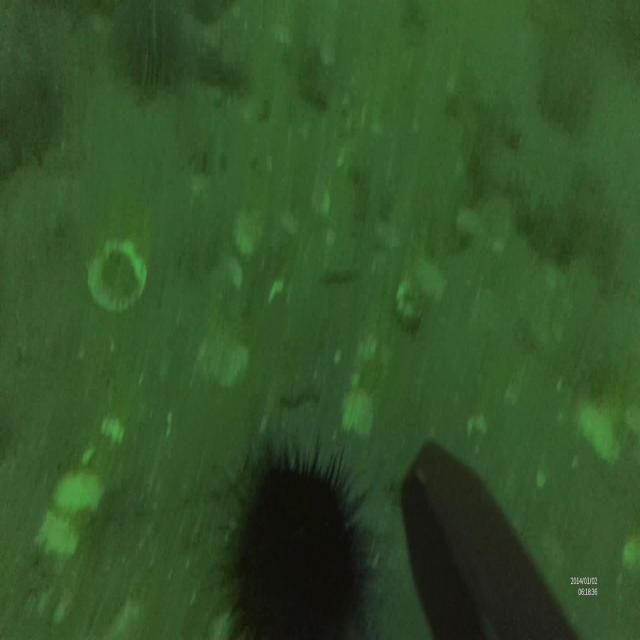echinus: (213, 439, 383, 640)
scallop: (87, 236, 150, 314)
